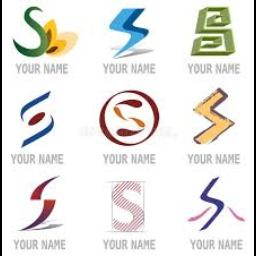s: (190, 86, 242, 146), (18, 172, 66, 234), (188, 4, 240, 58), (107, 4, 151, 64), (11, 3, 51, 59), (19, 88, 55, 148), (109, 178, 147, 234), (112, 96, 148, 138)
